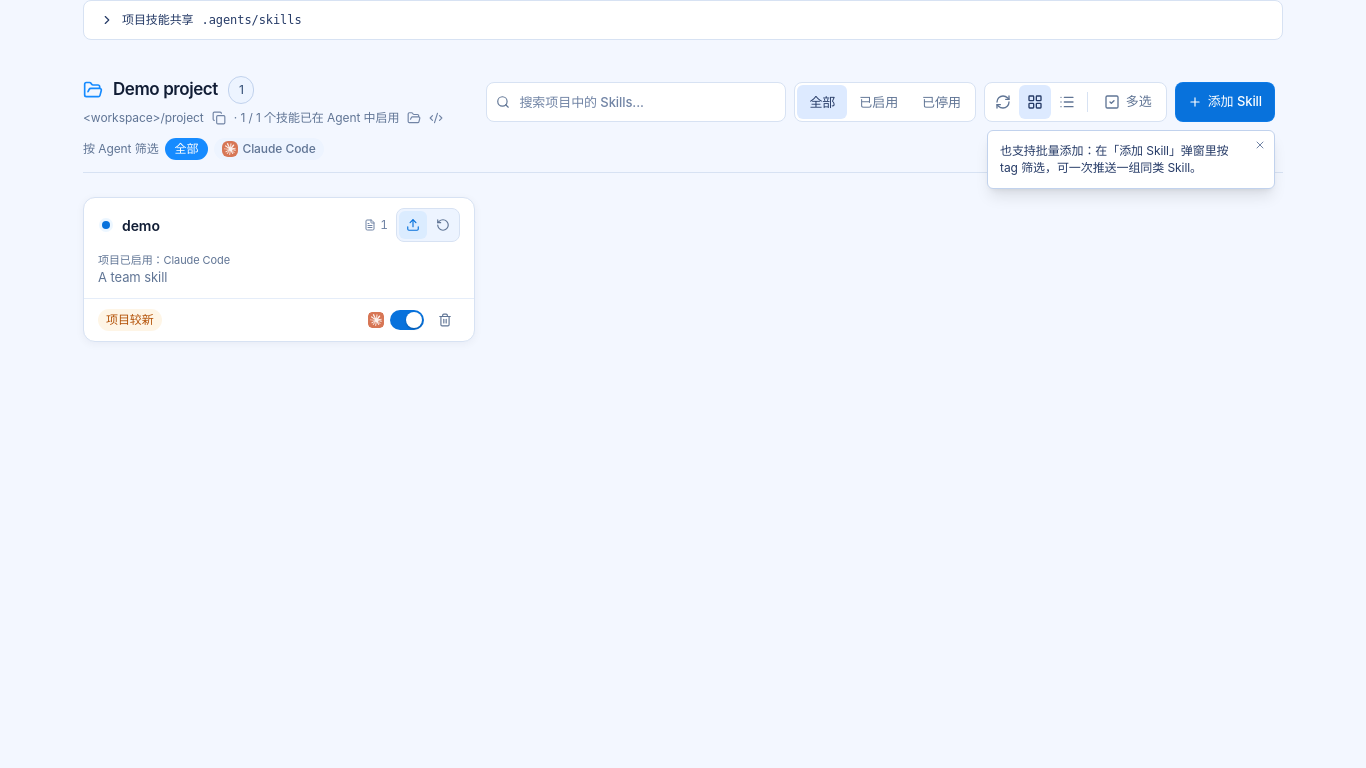
Test: asks for confirmation before restoring a newer project skill
Click the button named "恢复中心版本" at (443, 225), box [429, 211, 457, 239]
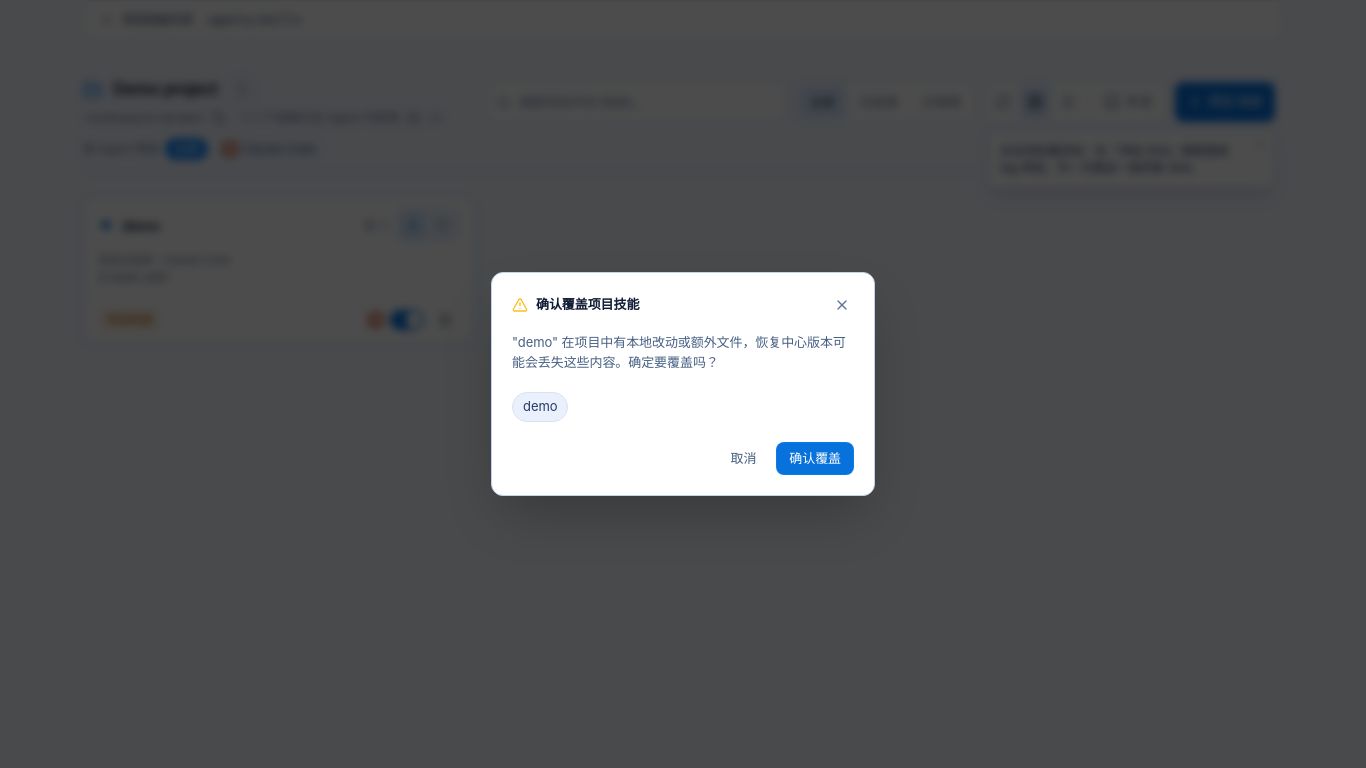
Now the dialog is shown, box [491, 272, 875, 496]
Now the button "取消" is shown
Click the button "取消" at (743, 458), box [718, 442, 768, 475]
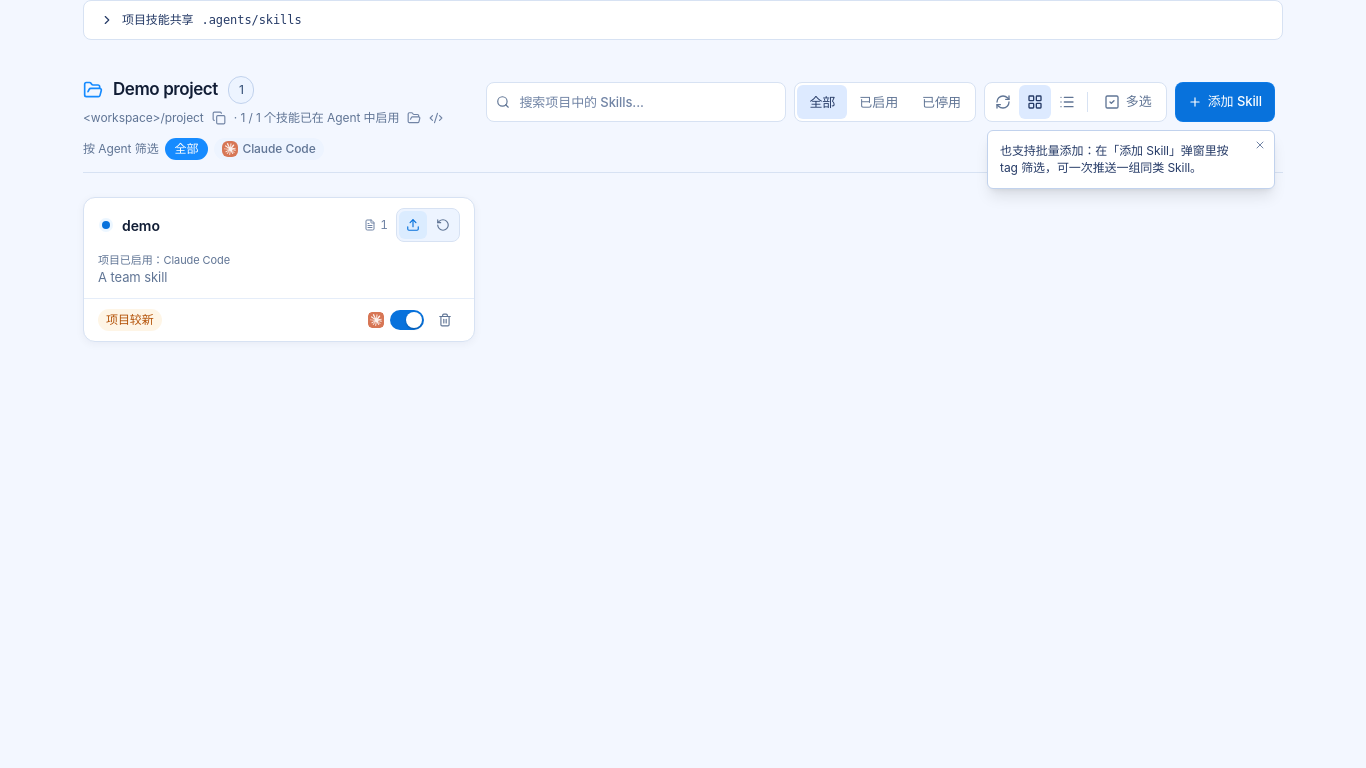
Now the dialog is gone
